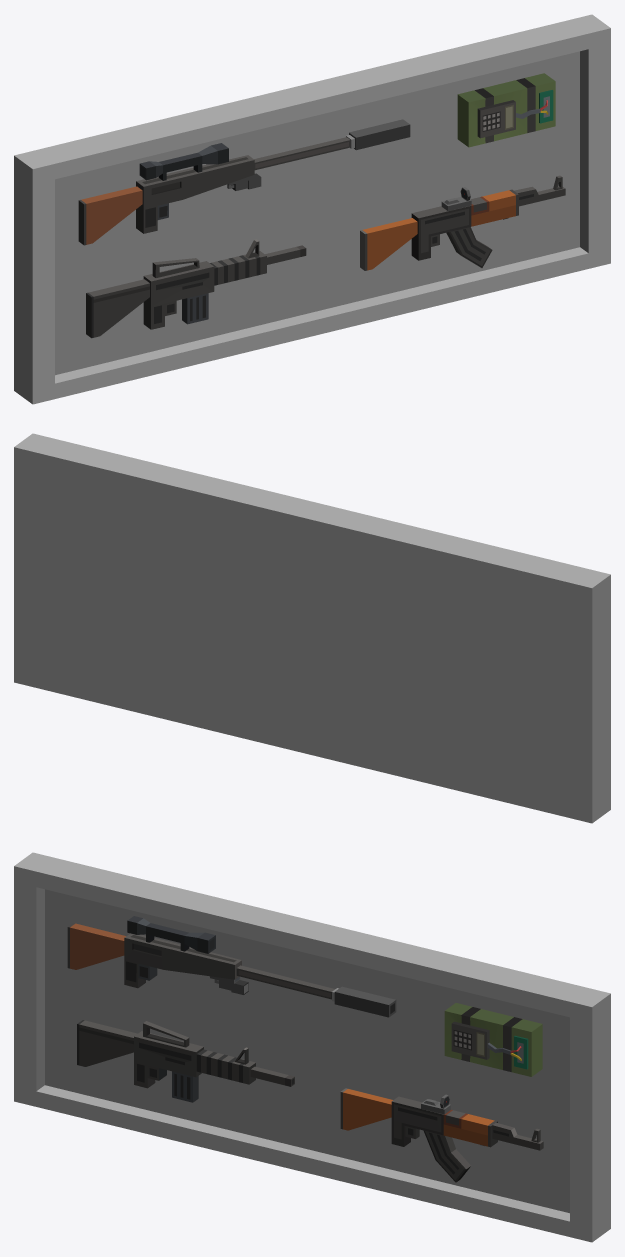
Rendered from AI_Prop_Guns_Rack_02.fbx.
3 renders of one model, top to bottom at view 1: azimuth 30°, elevation 25°; view 2: azimuth 150°, elevation 25°; view 3: azimuth 330°, elevation 25°, orthographic.
Parts seen in each view (by area): view 1: AI_Prop_Guns_Rack_02; view 2: AI_Prop_Guns_Rack_02; view 3: AI_Prop_Guns_Rack_02.
Part boxes in pixels (x1=…): AI_Prop_Guns_Rack_02: x1=14, y1=14, x2=610, y2=404; AI_Prop_Guns_Rack_02: x1=14, y1=433, x2=610, y2=823; AI_Prop_Guns_Rack_02: x1=14, y1=852, x2=610, y2=1242.
Size of the model in its own units: 5.49 by 2.13 by 0.3998.
